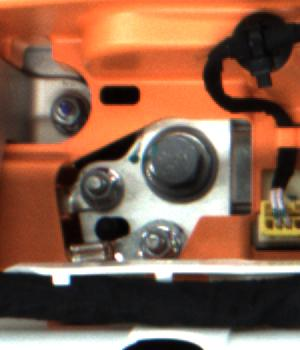nut_b: (138, 122, 229, 206)
